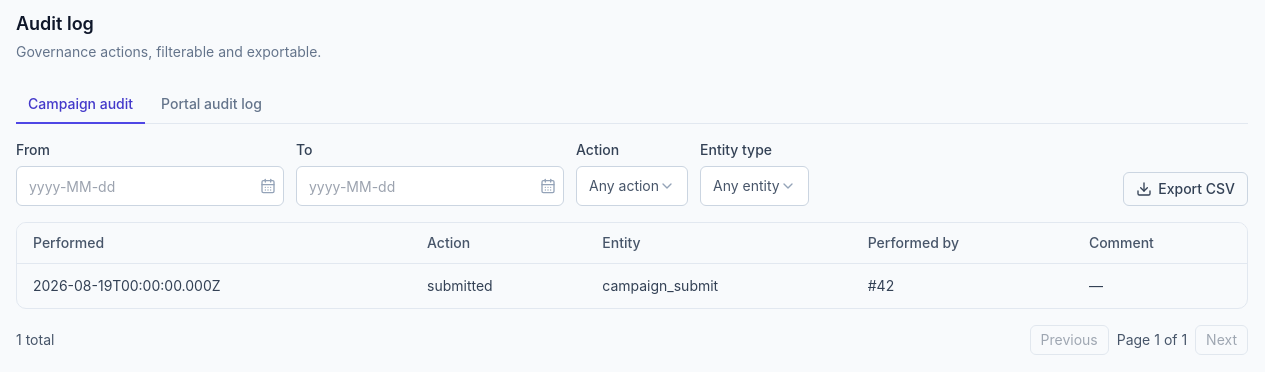
Test: super_admin › switches to the portal audit tab and loads it
Expected: the text "submitted" is shown, [411, 264, 586, 308]
Click the tab "Portal audit log" at (212, 105), box [149, 86, 274, 124]
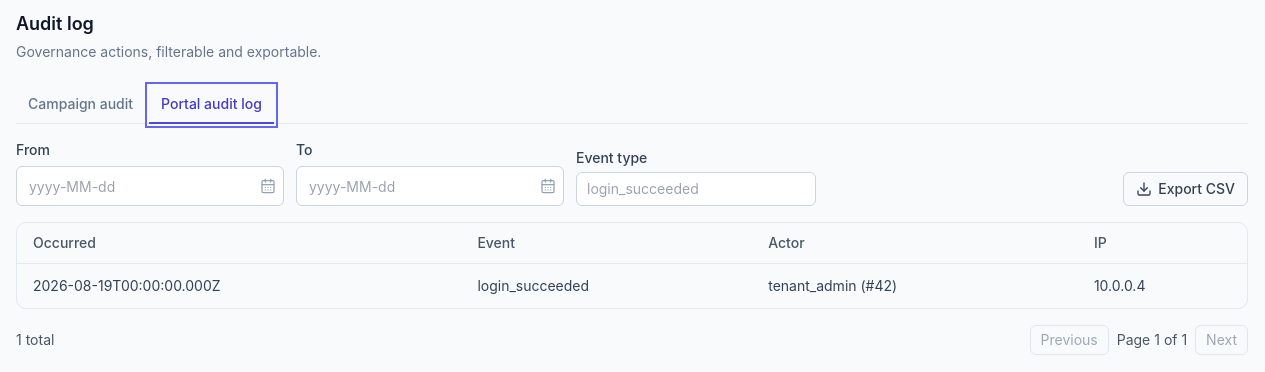
Now the text "login_succeeded" is shown, box [461, 264, 752, 308]
